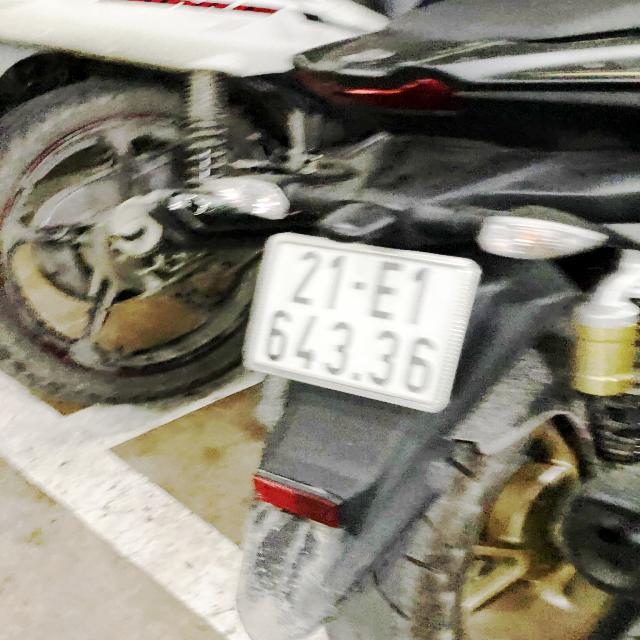license_plate: (221, 221, 502, 427)
